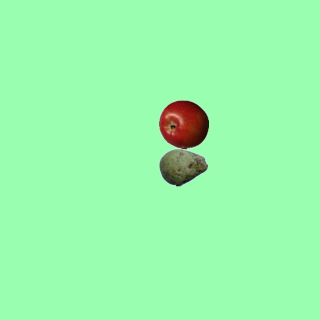Apple Braeburn: (158, 99, 208, 149)
Pear Stone: (158, 142, 208, 192)
